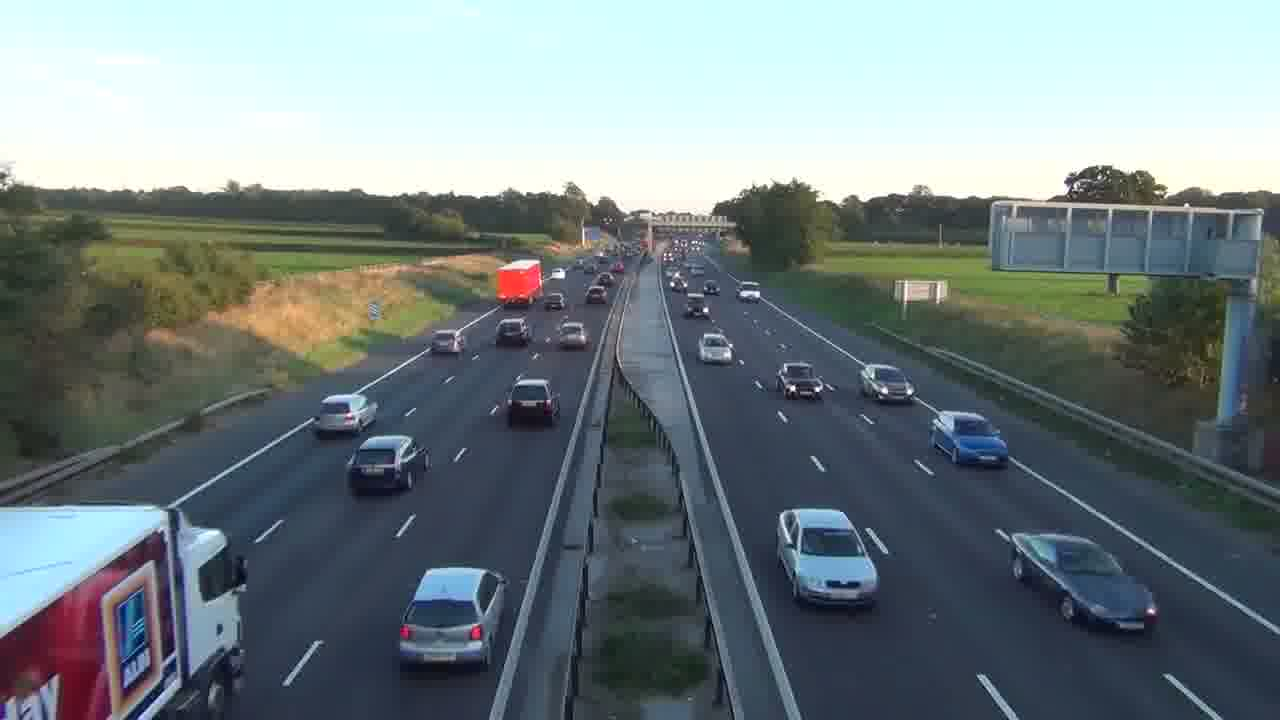car: (994, 528, 1160, 637), (396, 565, 508, 673), (776, 507, 881, 610), (345, 433, 431, 495), (928, 410, 1009, 468), (313, 393, 379, 437), (507, 377, 562, 426), (859, 363, 915, 405), (776, 361, 825, 401), (697, 332, 738, 365), (495, 317, 530, 346)
truck: (1, 502, 248, 717), (496, 259, 543, 306)
